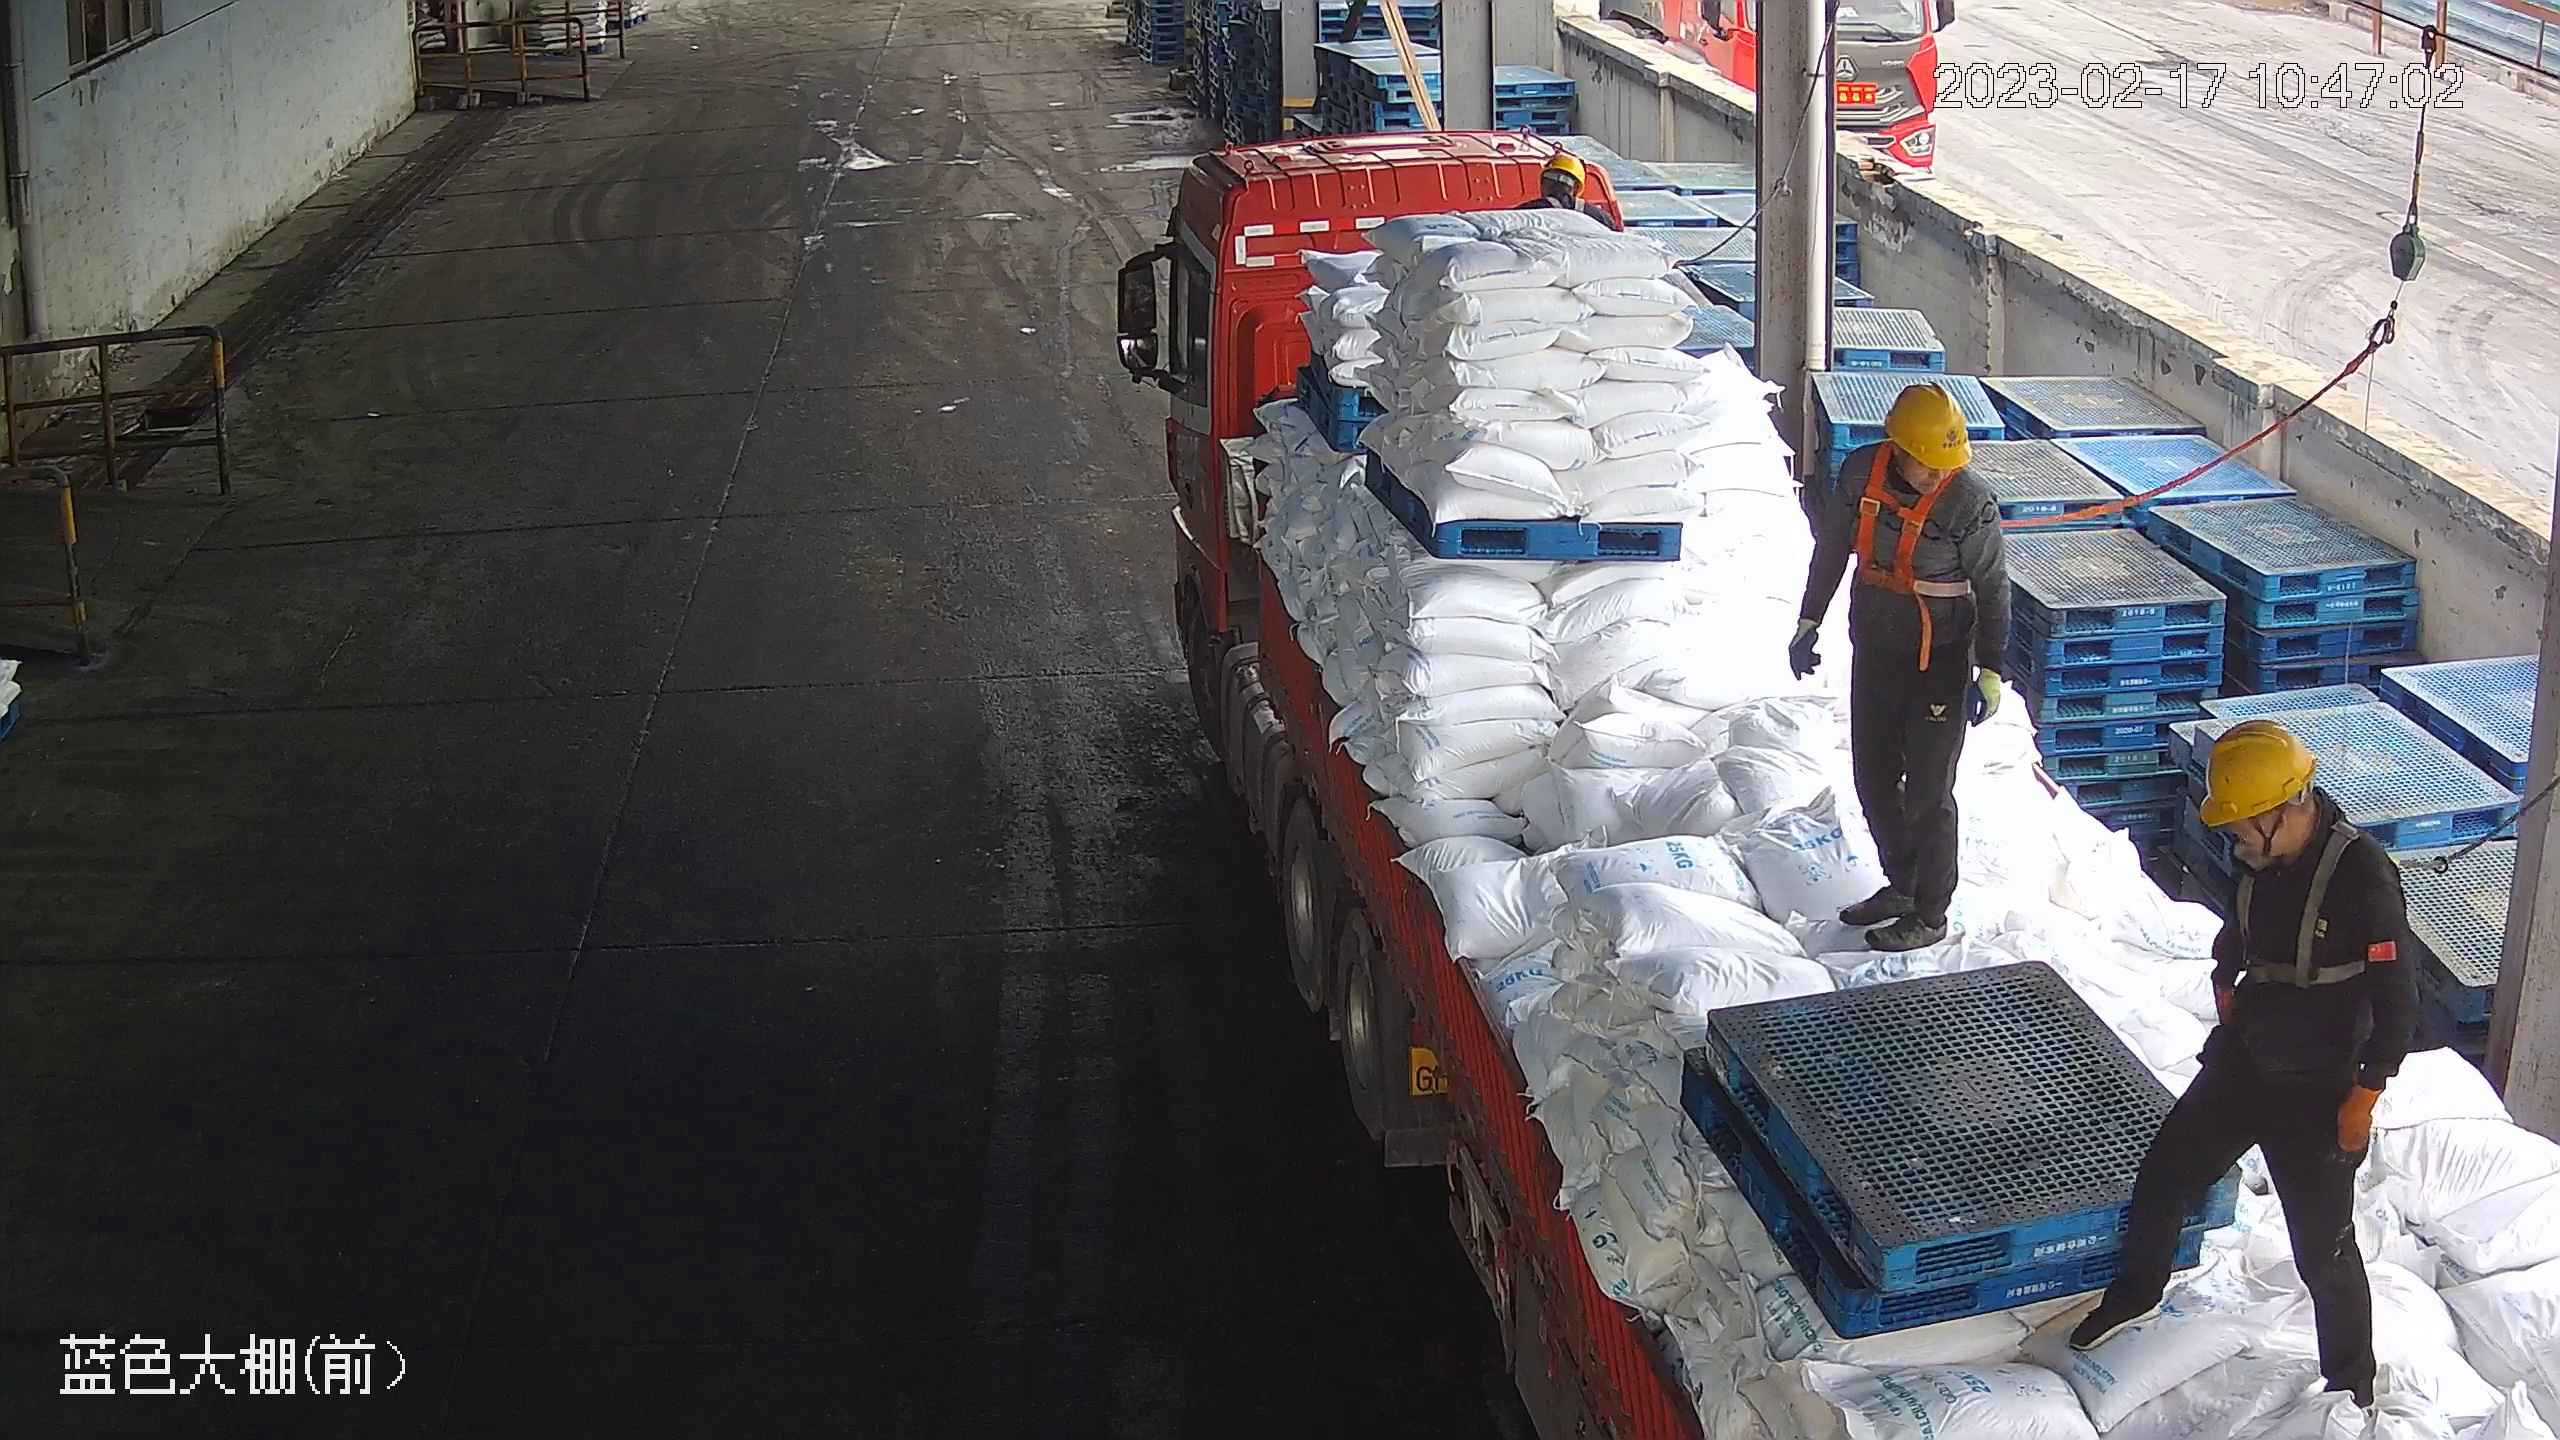belt: (2217, 820, 2453, 992), (1851, 436, 2022, 603)
head: (2194, 718, 2404, 905), (1826, 384, 2003, 524)
helmet: (2197, 718, 2317, 830), (1883, 383, 1974, 471), (1539, 150, 1586, 200)
people: (2067, 718, 2426, 1410), (1789, 386, 2011, 956)
truck: (1163, 122, 2560, 1440)
